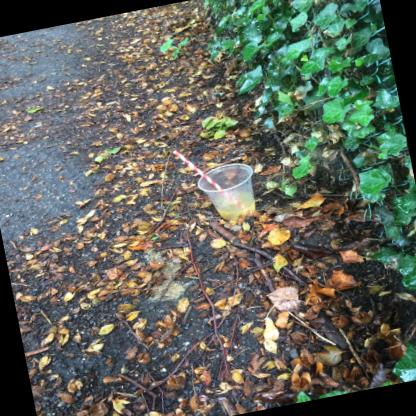Paper: (172, 149, 224, 190)
Plastic: (197, 163, 255, 221)
